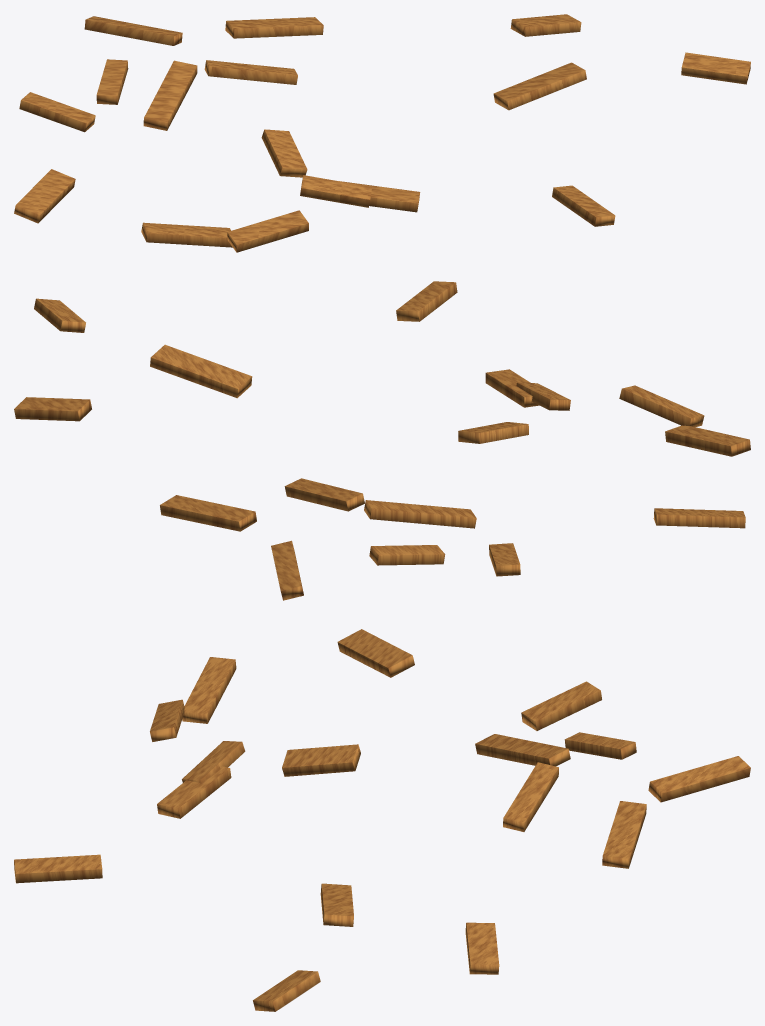
Rendered from grilled_onion.glb.
3 renders of one model, top to bottom at view 1: azimuth 30°, elevation 25°; view 2: azimuth 150°, elevation 25°; view 3: azimuth 270°, elevation 25°, orthographic. The views are drawn at different scales.
Parts seen in each view (by area): view 1: grilled_onion; view 2: grilled_onion; view 3: grilled_onion.
Boxes of the visible parts, x1,y1,x2,y2 form: grilled_onion: [14, 14, 750, 252]; grilled_onion: [14, 281, 750, 600]; grilled_onion: [14, 629, 750, 1011].
Bounding box in the file's own units: 0.8677 × 0.0394 × 0.7172.
1 material, 1 textured.
